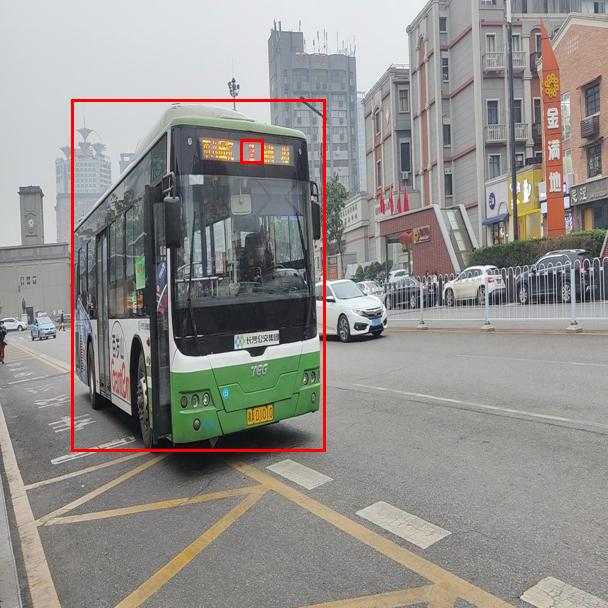bus: (71, 99, 325, 451)
screen: (240, 139, 263, 163)
